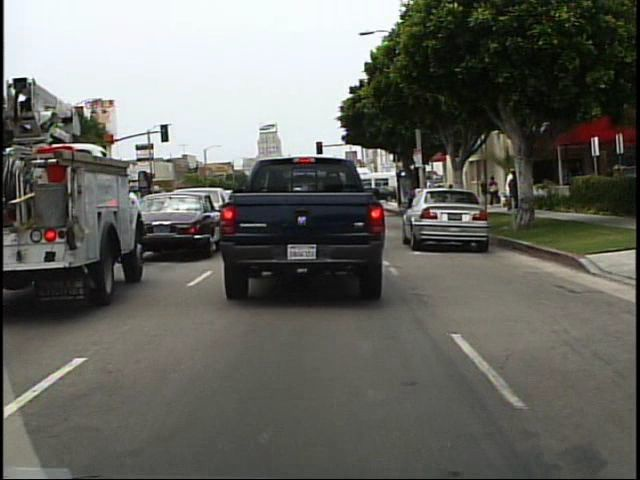person: (486, 175, 502, 207)
